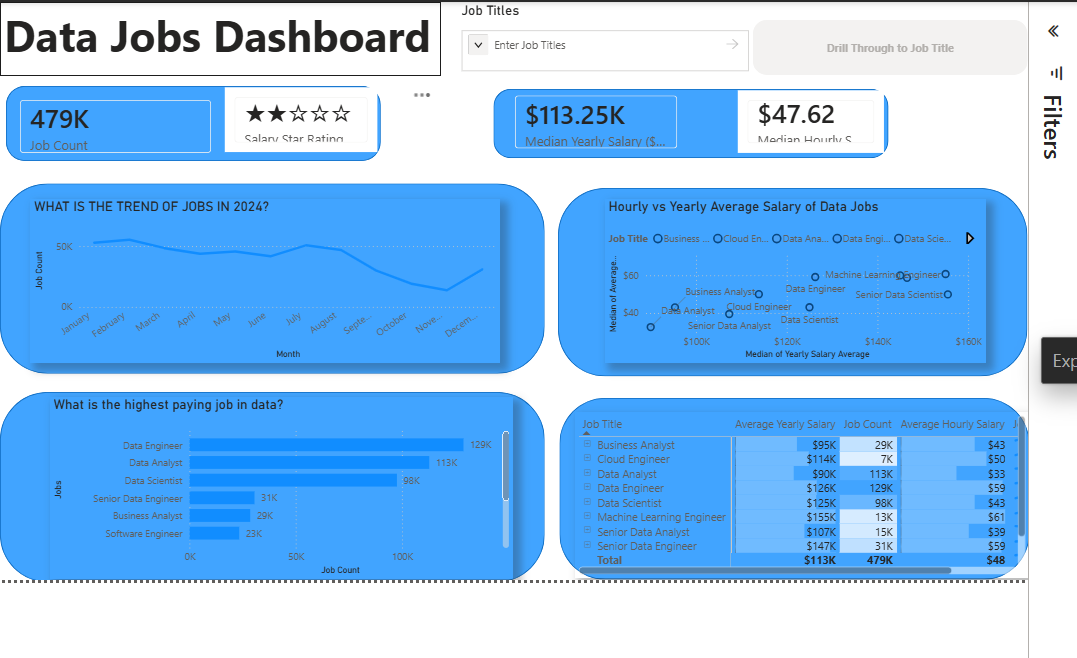

The dashboard page shown, as its layout file describes it:
{"tool":"powerbi","page":{"name":"Data Jobs Dashboard","canvas":[1280,720],"ordinal":0},"visuals":[{"type":"group","id":"g1","title":"Background","box":[0,104.4,1281.2,617.4],"z":0},{"type":"shape","box":[7.2,104.4,466.6,93.3],"z":0,"group":"g1"},{"type":"textSlicer","fields":{"Values":["job_postings_flat.job_title_short"]},"box":[569.5,0,367.7,91.1],"z":1000},{"type":"shape","box":[613.7,108,491.7,86.1],"z":1000,"group":"g1"},{"type":"textbox","box":[0,0,550,91.1],"z":2000},{"type":"shape","box":[0,226.5,678.3,236.9],"z":2000,"group":"g1"},{"type":"cardVisual","fields":{"Data":["CountNonNull(job_postings_flat.job_title_short)"]},"box":[8.1,105.2,272.8,100.5],"z":3000},{"type":"shape","box":[696.2,492,585,226.1],"z":3000,"group":"g1"},{"type":"cardVisual","fields":{"Data":["job_postings_flat.salary_star_rating"]},"box":[273.9,101.5,200.4,91.3],"z":4000},{"type":"shape","box":[0,484.9,678.3,236.9],"z":4000,"group":"g1"},{"type":"cardVisual","fields":{"Data":["Median(job_postings_flat.salary_year_avg)"]},"box":[622.9,99.8,236.9,100.5],"z":5000},{"type":"shape","box":[695.7,230.5,584.3,234.5],"z":5000,"group":"g1"},{"type":"cardVisual","fields":{"Data":["Median(job_postings_flat.salary_hour_avg)"]},"box":[913.1,104,192.8,88.8],"z":6000},{"type":"lineChart","title":"WHAT IS THE TREND OF JOBS IN 2024?","fields":{"Y":["CountNonNull(job_postings_flat.job_title_short)"],"Category":["job_postings_flat.job_posted_date.Variation.Date Hierarchy.Year","job_postings_flat.job_posted_date.Variation.Date Hierarchy.Quarter","job_postings_flat.job_posted_date.Variation.Date Hierarchy.Month","job_postings_flat.job_posted_date.Variation.Date Hierarchy.Day"]},"box":[37.8,245.4,585.2,204.9],"z":7000},{"type":"barChart","title":"What is the highest paying job in data?","fields":{"Category":["job_postings_flat.job_title_short"],"Y":["CountNonNull(job_postings_flat.job_title_short)"]},"box":[62,490.8,577.1,226.5],"z":8000},{"type":"scatterChart","title":"Hourly vs Yearly Average Salary of Data Jobs","fields":{"X":["Median(job_postings_flat.salary_year_avg)"],"Y":["Median(job_postings_flat.salary_hour_avg)"],"Series":["job_postings_flat.job_title_short"]},"box":[752.4,245.4,474.6,204.9],"z":9000},{"type":"pivotTable","fields":{"Rows":["job_postings_flat.job_title_short","job_postings_flat.job_posted_date.Variation.Date Hierarchy.Quarter"],"Values":["Median(job_postings_flat.salary_year_avg)","CountNonNull(job_postings_flat.job_title_short)","Median(job_postings_flat.salary_hour_avg)","SparklineData(CountNonNull(job_postings_flat.job_title_short)_[job_postings_flat.job_posted_date.Variation.Date Hierarch"]},"box":[714.6,509.7,566.3,207.6],"z":10000},{"type":"actionButton","box":[937.2,22.8,341.7,68.3],"z":11000}]}

Visuals, with their boxes in screenshot pixels (x1, y1, x2, y2):
"Background" group: [x1=0, y1=84, x2=1025, y2=578]
shape: [x1=6, y1=84, x2=379, y2=158]
textSlicer - job_postings_flat.job_title_short: [x1=456, y1=0, x2=750, y2=73]
shape: [x1=491, y1=86, x2=885, y2=155]
textbox: [x1=0, y1=0, x2=440, y2=73]
shape: [x1=0, y1=181, x2=543, y2=371]
cardVisual - CountNonNull(job_postings_flat.job_title_short): [x1=6, y1=84, x2=225, y2=165]
shape: [x1=557, y1=394, x2=1025, y2=575]
cardVisual - job_postings_flat.salary_star_rating: [x1=219, y1=81, x2=380, y2=154]
shape: [x1=0, y1=388, x2=543, y2=578]
cardVisual - Median(job_postings_flat.salary_year_avg): [x1=499, y1=80, x2=688, y2=160]
shape: [x1=557, y1=184, x2=1024, y2=372]
cardVisual - Median(job_postings_flat.salary_hour_avg): [x1=731, y1=83, x2=885, y2=154]
"WHAT IS THE TREND OF JOBS IN 2024?" lineChart: [x1=30, y1=196, x2=499, y2=360]
"What is the highest paying job in data?" barChart: [x1=50, y1=393, x2=512, y2=574]
"Hourly vs Yearly Average Salary of Data Jobs" scatterChart: [x1=602, y1=196, x2=982, y2=360]
pivotTable - job_postings_flat.job_title_short x job_postings_flat.job_posted_date.Variation.Date Hierarchy.Quarter: [x1=572, y1=408, x2=1025, y2=574]
actionButton: [x1=750, y1=18, x2=1024, y2=73]
